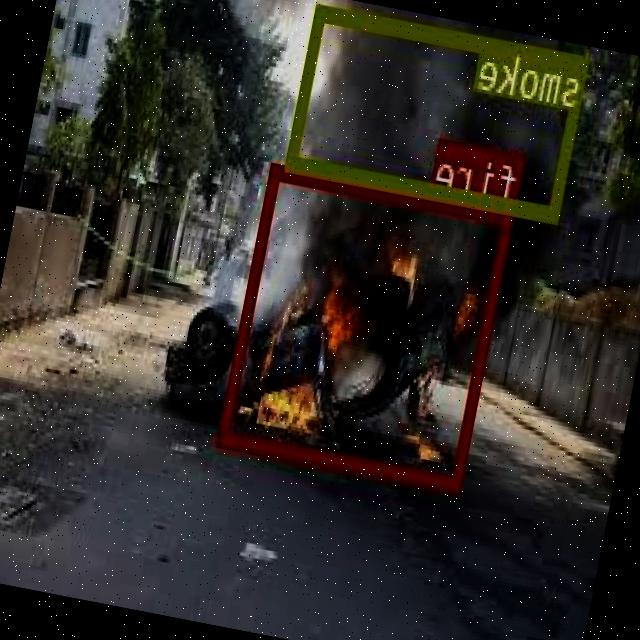fire: (221, 162, 518, 490)
smoke: (287, 2, 592, 222)
